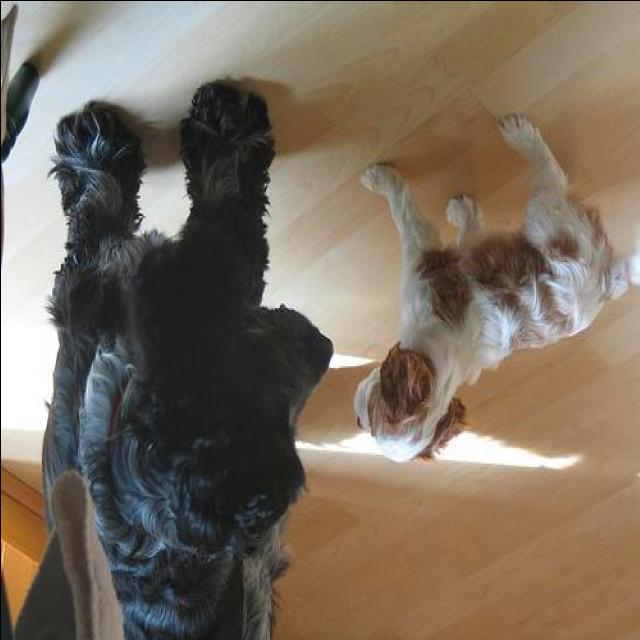blenheim_spaniel: (40, 79, 335, 640), (352, 109, 640, 468)
